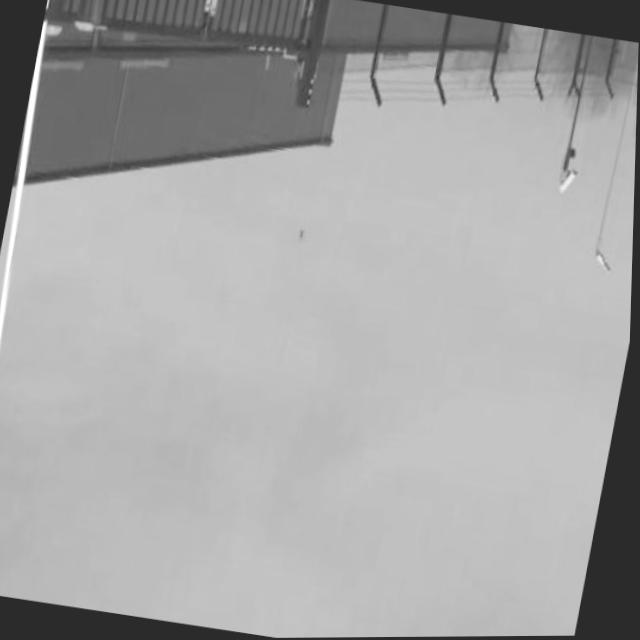helikopter: (293, 225, 311, 247)
